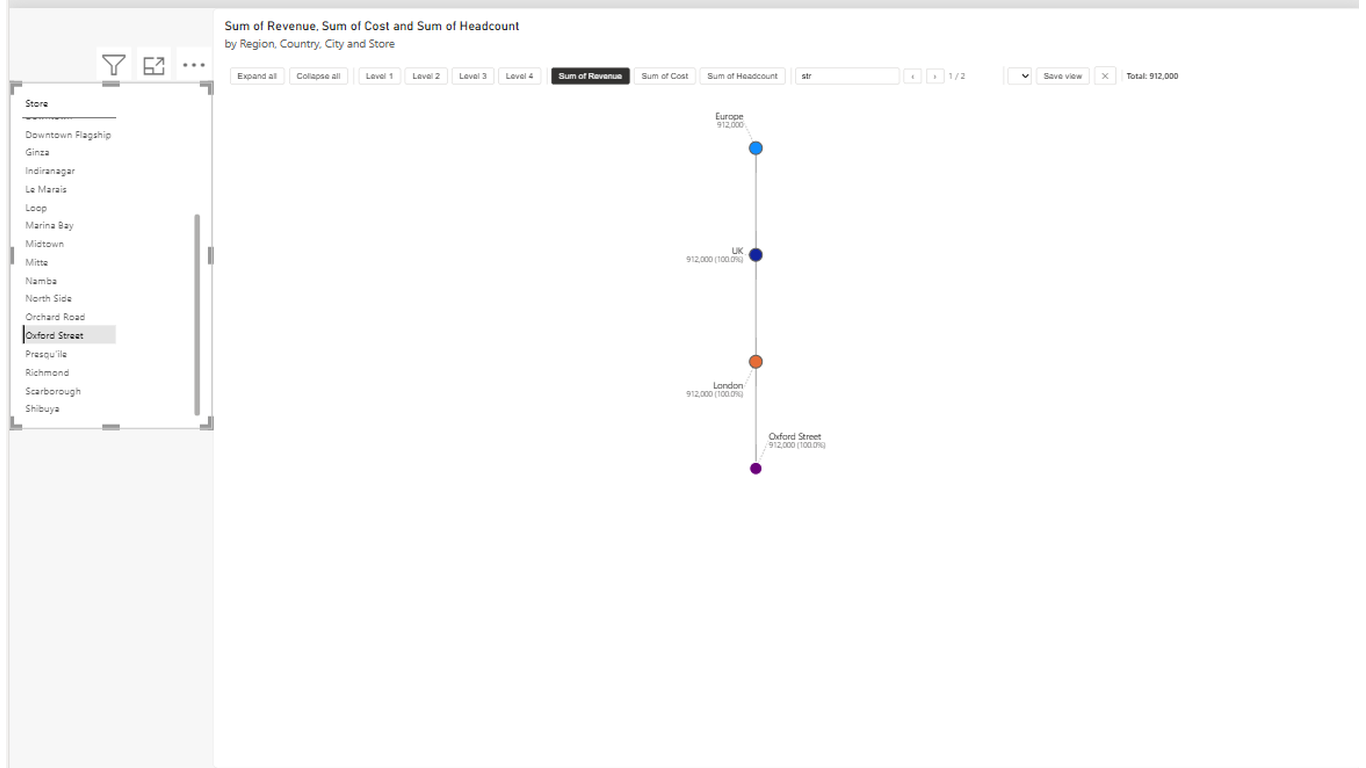

This screenshot's page, from the dashboard's own definition file:
{"tool":"powerbi","page":{"name":"Page 1","canvas":[1920,1080],"ordinal":0},"visuals":[{"type":"treeHierarchyChartF60516F7DD7B484299BBC9E3E6FEC0F3","fields":{"levels":["tree_hierarchy_sample_data.Region","tree_hierarchy_sample_data.Country","tree_hierarchy_sample_data.City","tree_hierarchy_sample_data.Store"],"measure":["Sum(tree_hierarchy_sample_data.Revenue)","Sum(tree_hierarchy_sample_data.Cost)","Sum(tree_hierarchy_sample_data.Headcount)"]},"box":[288.2,0,1632.3,1080.6],"z":0},{"type":"tableEx","fields":{"Values":["tree_hierarchy_sample_data.Store"]},"box":[0,105,288.2,491.9],"z":1}]}

Visuals, with their boxes on the page's 1920x1080 design canvas (x1, y1, x2, y2). These are canvas units, not pixel positions in the 1366x768 screenshot, which may show the page scaled, cropped or inside an application window:
treeHierarchyChartF60516F7DD7B484299BBC9E3E6FEC0F3 - tree_hierarchy_sample_data.Region x tree_hierarchy_sample_data.Country: 288 0 1920 1081
tableEx - tree_hierarchy_sample_data.Store: 0 105 288 597
